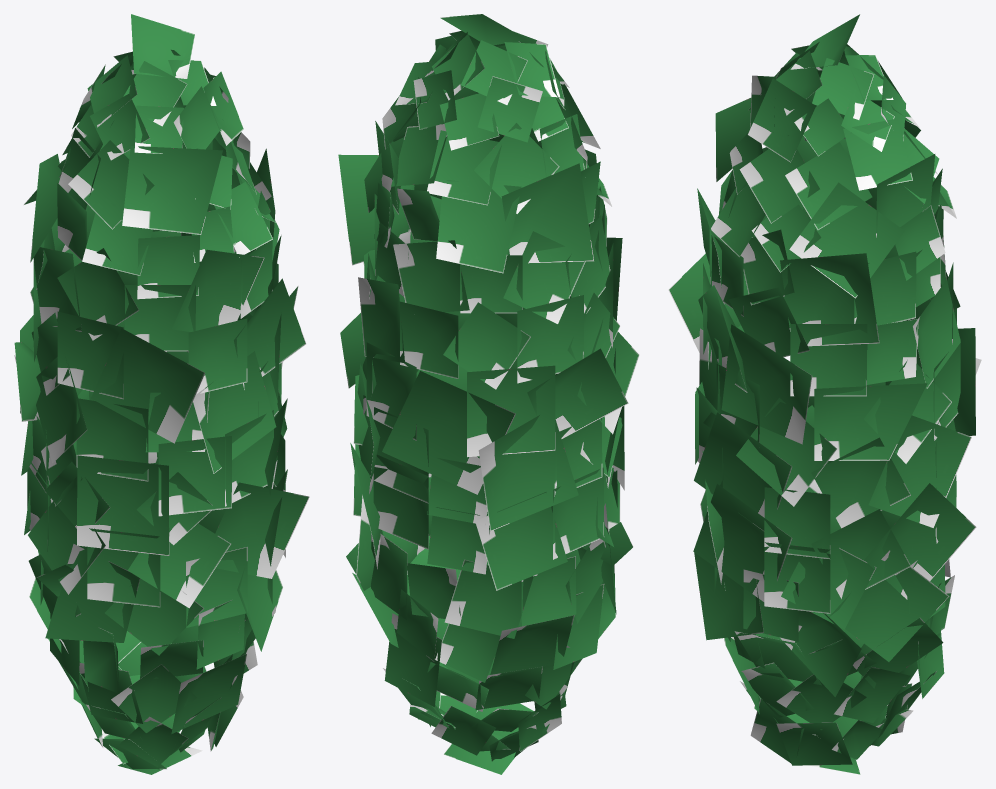
File: Map01_Flower02.FBX
3 renders of one model, left to right at view 1: azimuth 30°, elevation 25°; view 2: azimuth 150°, elevation 25°; view 3: azimuth 270°, elevation 25°, orthographic.
Parts seen in each view (by area): view 1: Map01_Flower02; view 2: Map01_Flower02; view 3: Map01_Flower02.
Boxes of the visible parts, <box> form: Map01_Flower02: <box>14,14,309,774</box>; Map01_Flower02: <box>338,14,639,774</box>; Map01_Flower02: <box>668,14,981,774</box>.
Bounding box in the file's own units: 137 × 362 × 137.
Materials: 1 (1 with a texture image).
